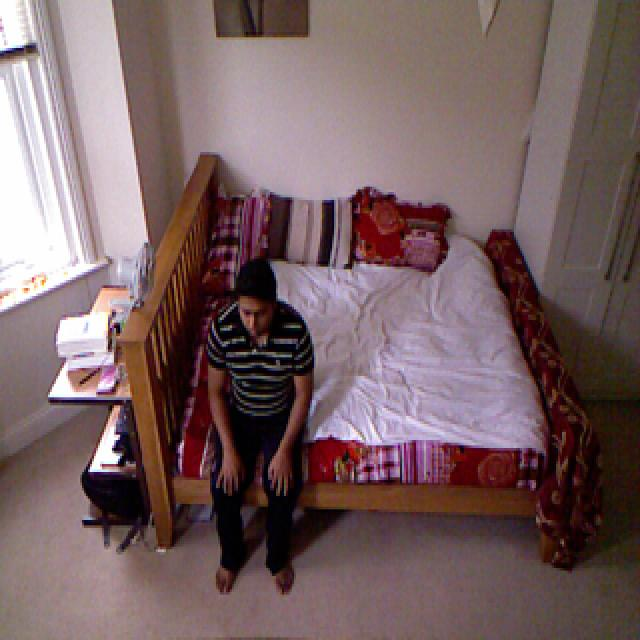sitting: (202, 260, 315, 600)
